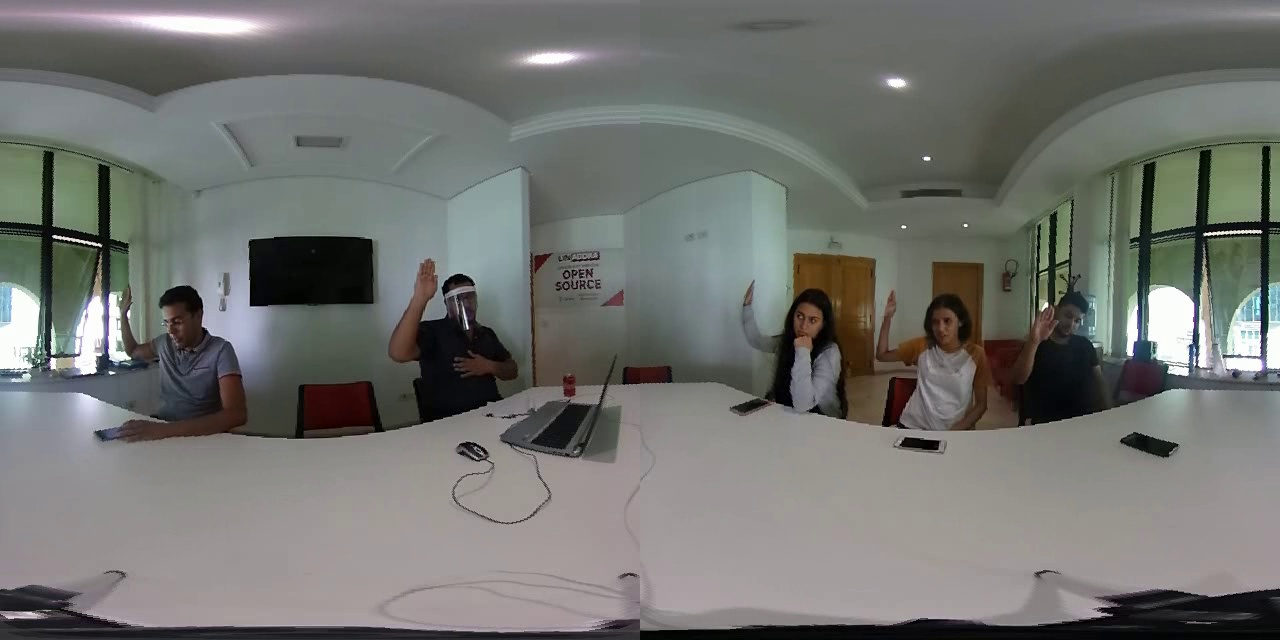person: (85, 268, 249, 442), (369, 245, 539, 404), (864, 272, 997, 425), (713, 267, 849, 411), (999, 282, 1122, 426)
voting: (381, 249, 442, 363), (102, 276, 157, 366), (1006, 294, 1051, 398), (735, 270, 772, 355), (875, 285, 909, 374)
